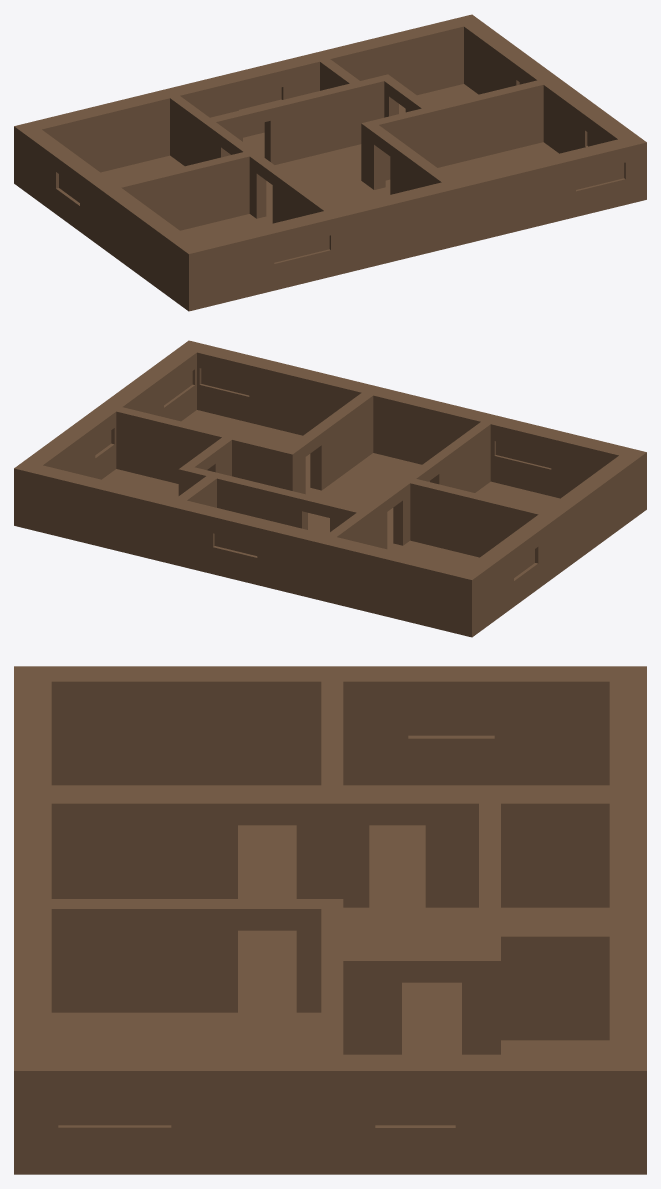
Rendered from insideHouse.fbx.
3 views of the same model, one above another, from view 1: azimuth 30°, elevation 25°; view 2: azimuth 150°, elevation 25°; view 3: azimuth 270°, elevation 25° (orthographic). The views are drawn at different scales.
Parts seen in each view (by area): view 1: Plane; view 2: Plane; view 3: Plane.
Boxes of the visible parts, box(x1,y1,x2,y2) form: Plane: box(14, 14, 646, 311); Plane: box(14, 340, 646, 637); Plane: box(14, 666, 646, 1174).
Size of the model in its own units: 1983 by 237 by 1311.
